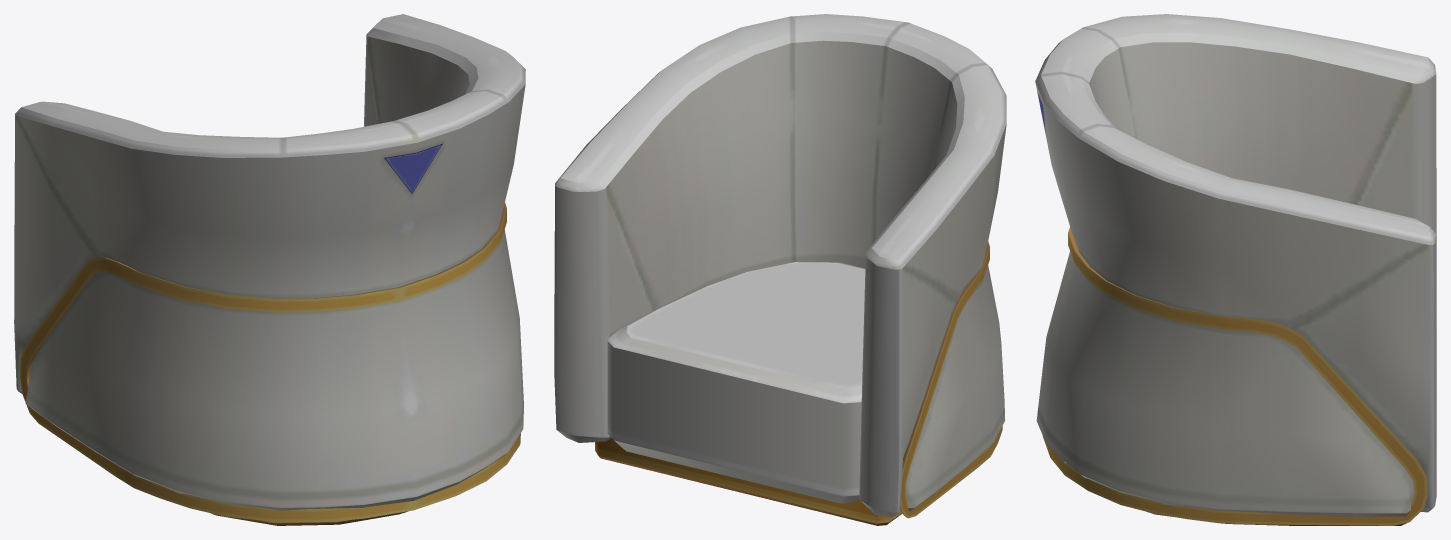
Rendered from furn_ab2024_chair.gltf.
The picture shows the model from 3 angles, left to right: view 1: azimuth 30°, elevation 25°; view 2: azimuth 150°, elevation 25°; view 3: azimuth 270°, elevation 25°; orthographic projection. The views are drawn at different scales.
Parts seen in each view (by area): view 1: ab2024_chair; view 2: ab2024_chair; view 3: ab2024_chair.
Boxes of the visible parts, x1,y1,x2,y2 form: ab2024_chair: (14, 14, 525, 525); ab2024_chair: (554, 14, 1006, 525); ab2024_chair: (1035, 14, 1436, 525).
Bounding box in the file's own units: 0.743 × 0.7055 × 0.6813.
1 material, 1 textured.
